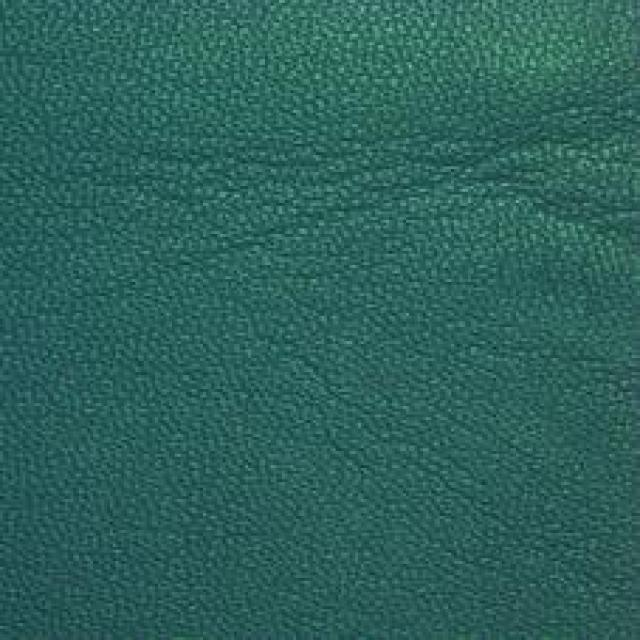Growth Marks: (101, 111, 346, 289), (402, 96, 602, 271)
